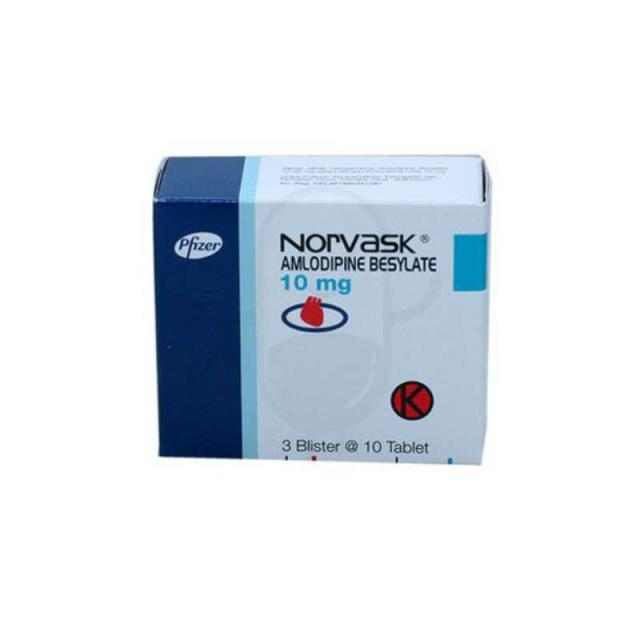drug-name: (274, 227, 418, 254)
